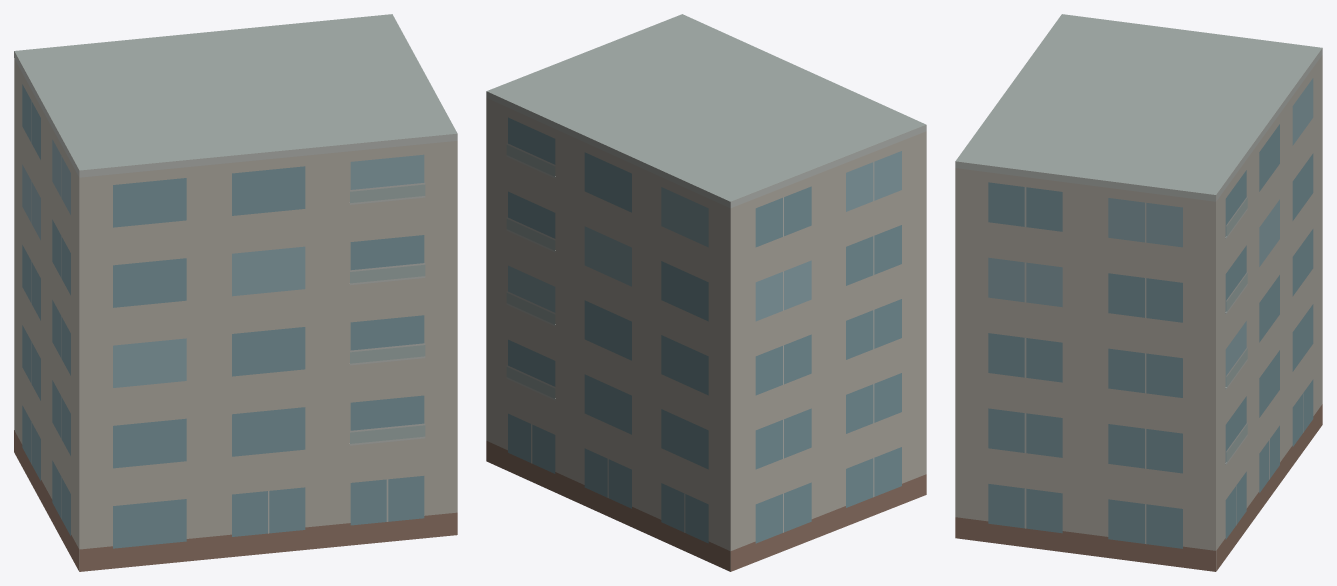
File: survey-upis-32874815.glb
3 renders of one model, left to right at view 1: azimuth 30°, elevation 25°; view 2: azimuth 150°, elevation 25°; view 3: azimuth 270°, elevation 25°, orthographic. The views are drawn at different scales.
Parts seen in each view (by area): view 1: survey-upis-32874815.tmp; view 2: survey-upis-32874815.tmp; view 3: survey-upis-32874815.tmp.
Boxes of the visible parts, x1,y1,x2,y2 form: survey-upis-32874815.tmp: (14,14,457,571); survey-upis-32874815.tmp: (486,14,926,571); survey-upis-32874815.tmp: (955,14,1322,571).
Size of the model in its own units: 14.13 by 13.7 by 12.11.
